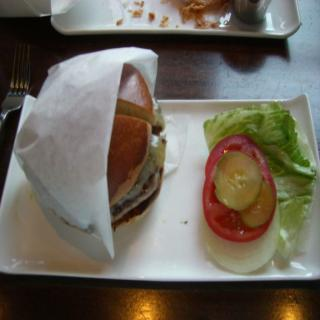tomato: (202, 149, 276, 243), (202, 134, 266, 178)
